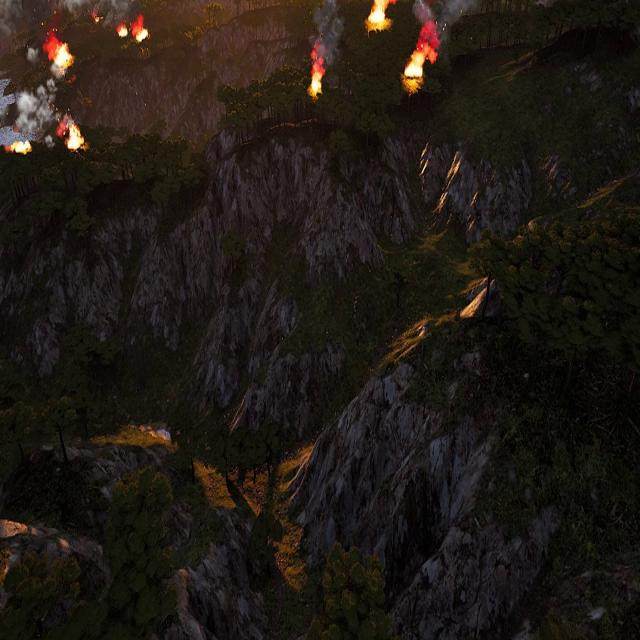fire: (404, 23, 440, 83), (44, 34, 74, 68), (309, 54, 326, 99), (366, 0, 390, 28), (64, 125, 84, 152), (4, 140, 34, 154), (135, 26, 149, 42), (118, 23, 129, 43)
smoke: (0, 2, 68, 142), (412, 0, 473, 53), (315, 0, 347, 70)
